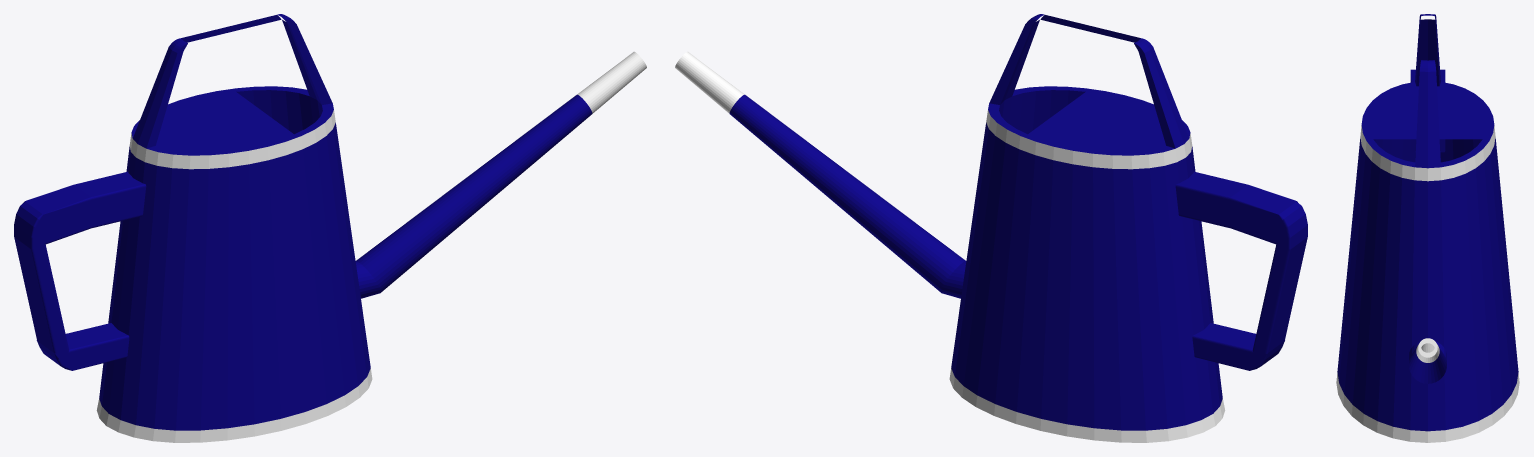
Rendered from waterer.fbx.
3 views of the same model, side by side, from view 1: azimuth 30°, elevation 25°; view 2: azimuth 150°, elevation 25°; view 3: azimuth 270°, elevation 25° (orthographic). The views are drawn at different scales.
Parts seen in each view (by area): view 1: Cylinder; view 2: Cylinder; view 3: Cylinder.
Boxes of the visible parts, x1,y1,x2,y2 form: Cylinder: (14, 14, 646, 442); Cylinder: (675, 14, 1307, 442); Cylinder: (1336, 14, 1519, 442).
Size of the model in its own units: 474 by 267 by 129.
